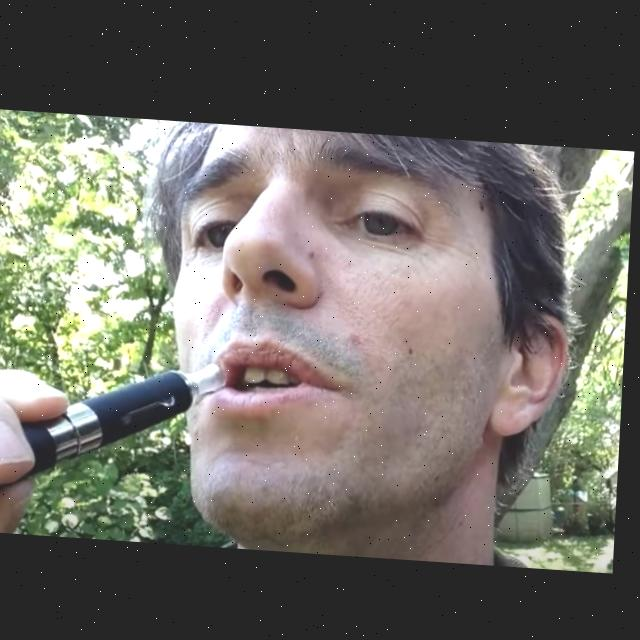vape: (0, 348, 233, 511)
